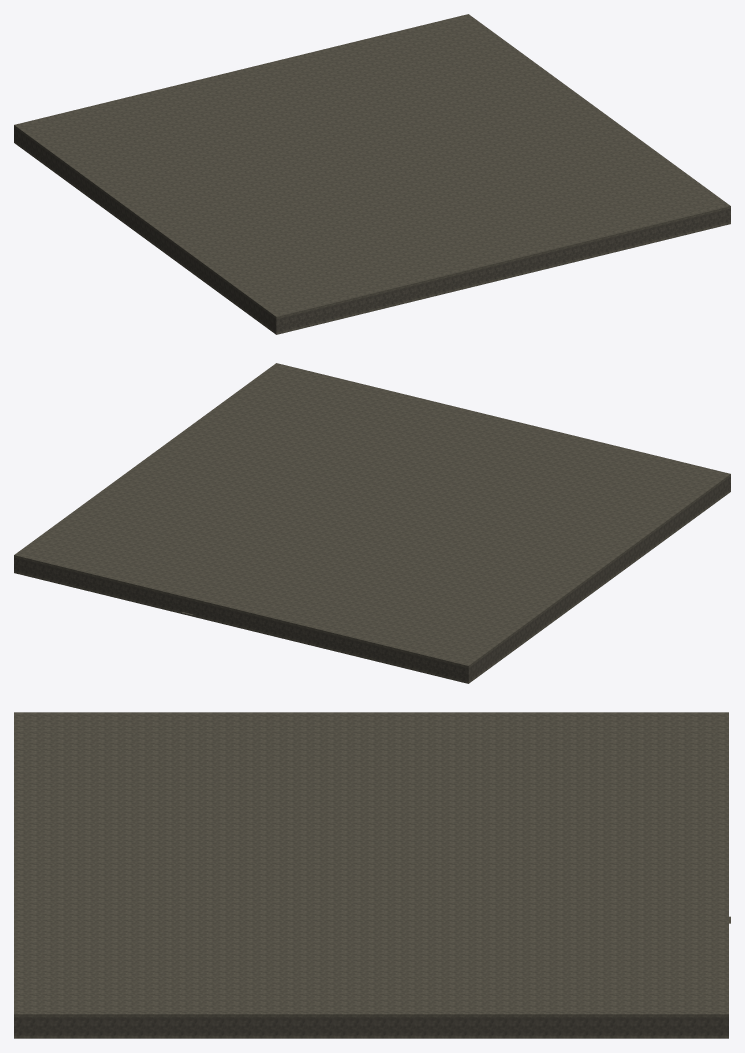
The model's file is level2_shell.obj.
3 views of the same model, one above another, from view 1: azimuth 30°, elevation 25°; view 2: azimuth 150°, elevation 25°; view 3: azimuth 270°, elevation 25° (orthographic). The views are drawn at different scales.
Size of the model in its own units: 106 by 4 by 106.
Materials: 2 (2 with a texture image).
